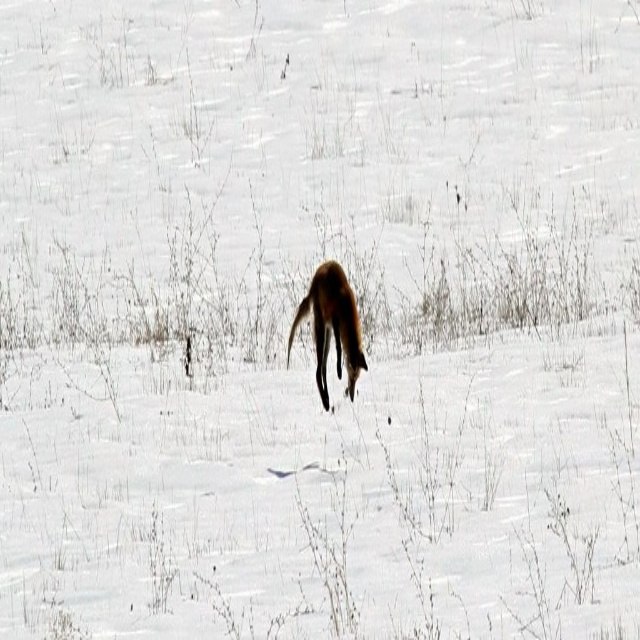Fox: (287, 260, 370, 411)
